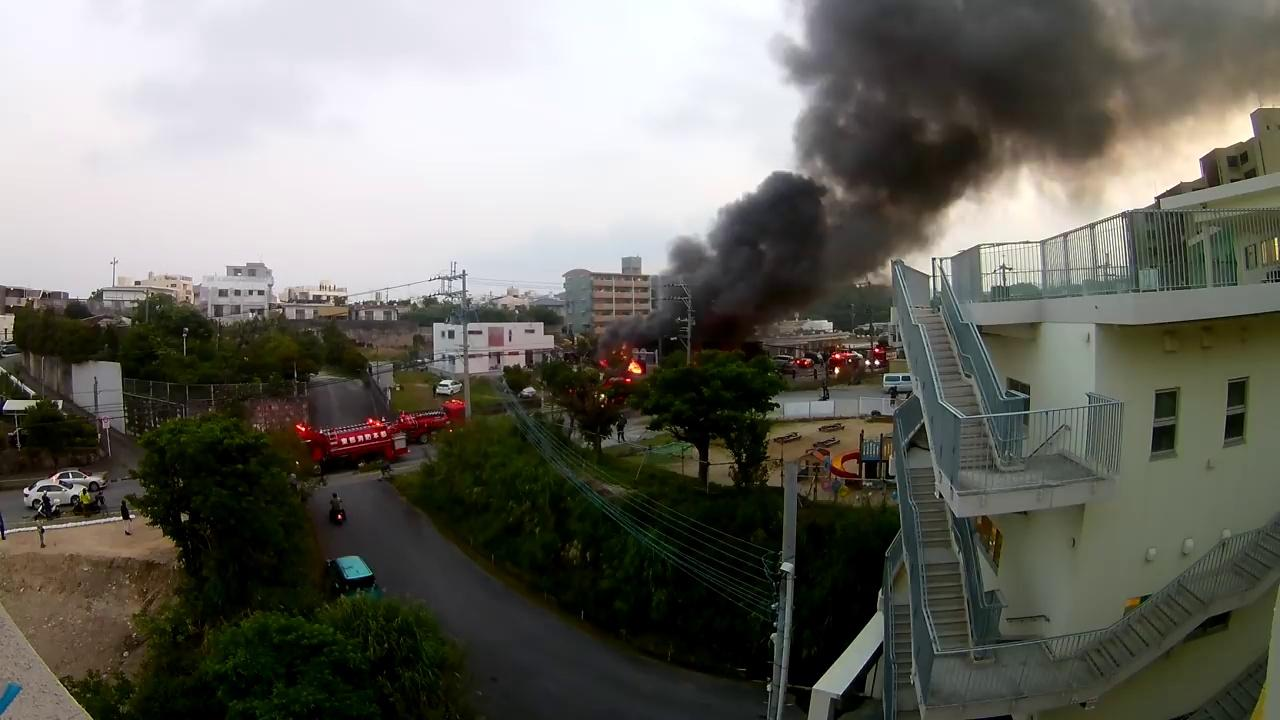smoke: (804, 6, 1078, 160), (710, 204, 854, 322)
